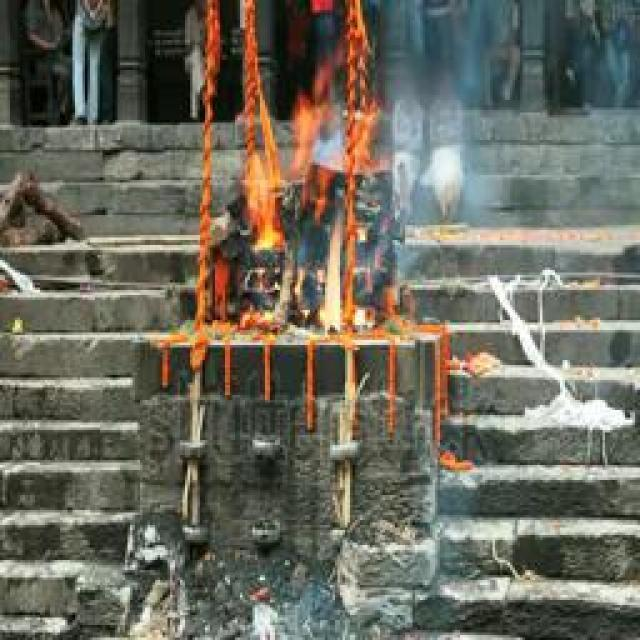Fire: (240, 87, 356, 347)
